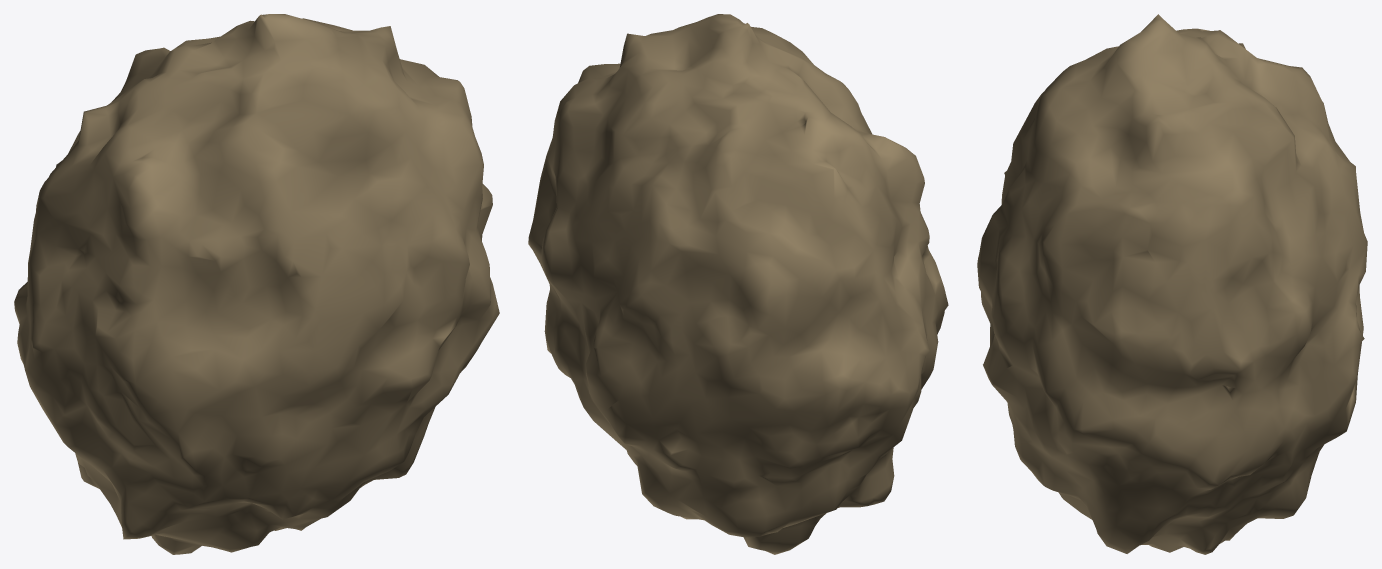
Rendered from dragonstone-mobile.glb.
3 renders of one model, left to right at view 1: azimuth 30°, elevation 25°; view 2: azimuth 150°, elevation 25°; view 3: azimuth 270°, elevation 25°, orthographic. The views are drawn at different scales.
Visible parts, largest first — view 1: dragonstone; view 2: dragonstone; view 3: dragonstone.
Boxes of the visible parts, <box> form: dragonstone: <box>14,14,499,554</box>; dragonstone: <box>528,14,948,554</box>; dragonstone: <box>977,14,1367,554</box>.
Size of the model in its own units: 0.8214 by 1 by 0.6497.
